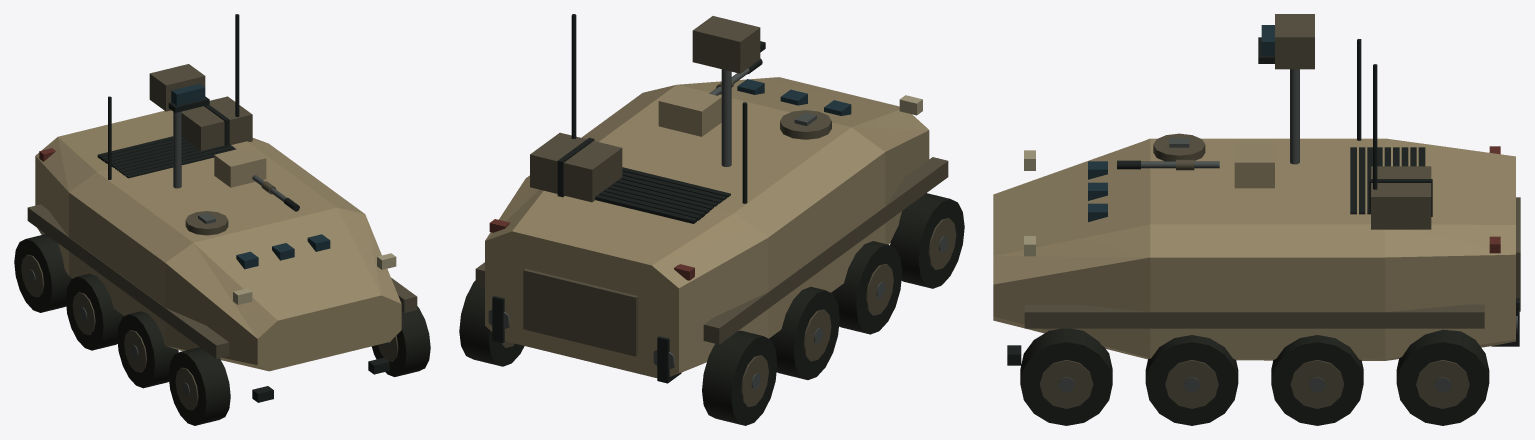
File: reconVehicle-lod.glb
3 views of the same model, side by side, from view 1: azimuth 30°, elevation 25°; view 2: azimuth 150°, elevation 25°; view 3: azimuth 270°, elevation 25° (orthographic). The views are drawn at different scales.
Parts seen in each view (by area): view 1: equipment (×3); view 2: equipment (×2); view 3: equipment (×3).
Part boxes in pixels (bbox=[...]): equipment (×3): bbox=[14, 14, 430, 425]; equipment (×2): bbox=[459, 14, 964, 425]; equipment (×3): bbox=[993, 14, 1520, 425].
Bounding box in the file's own units: 3.19 × 3.65 × 5.24.
